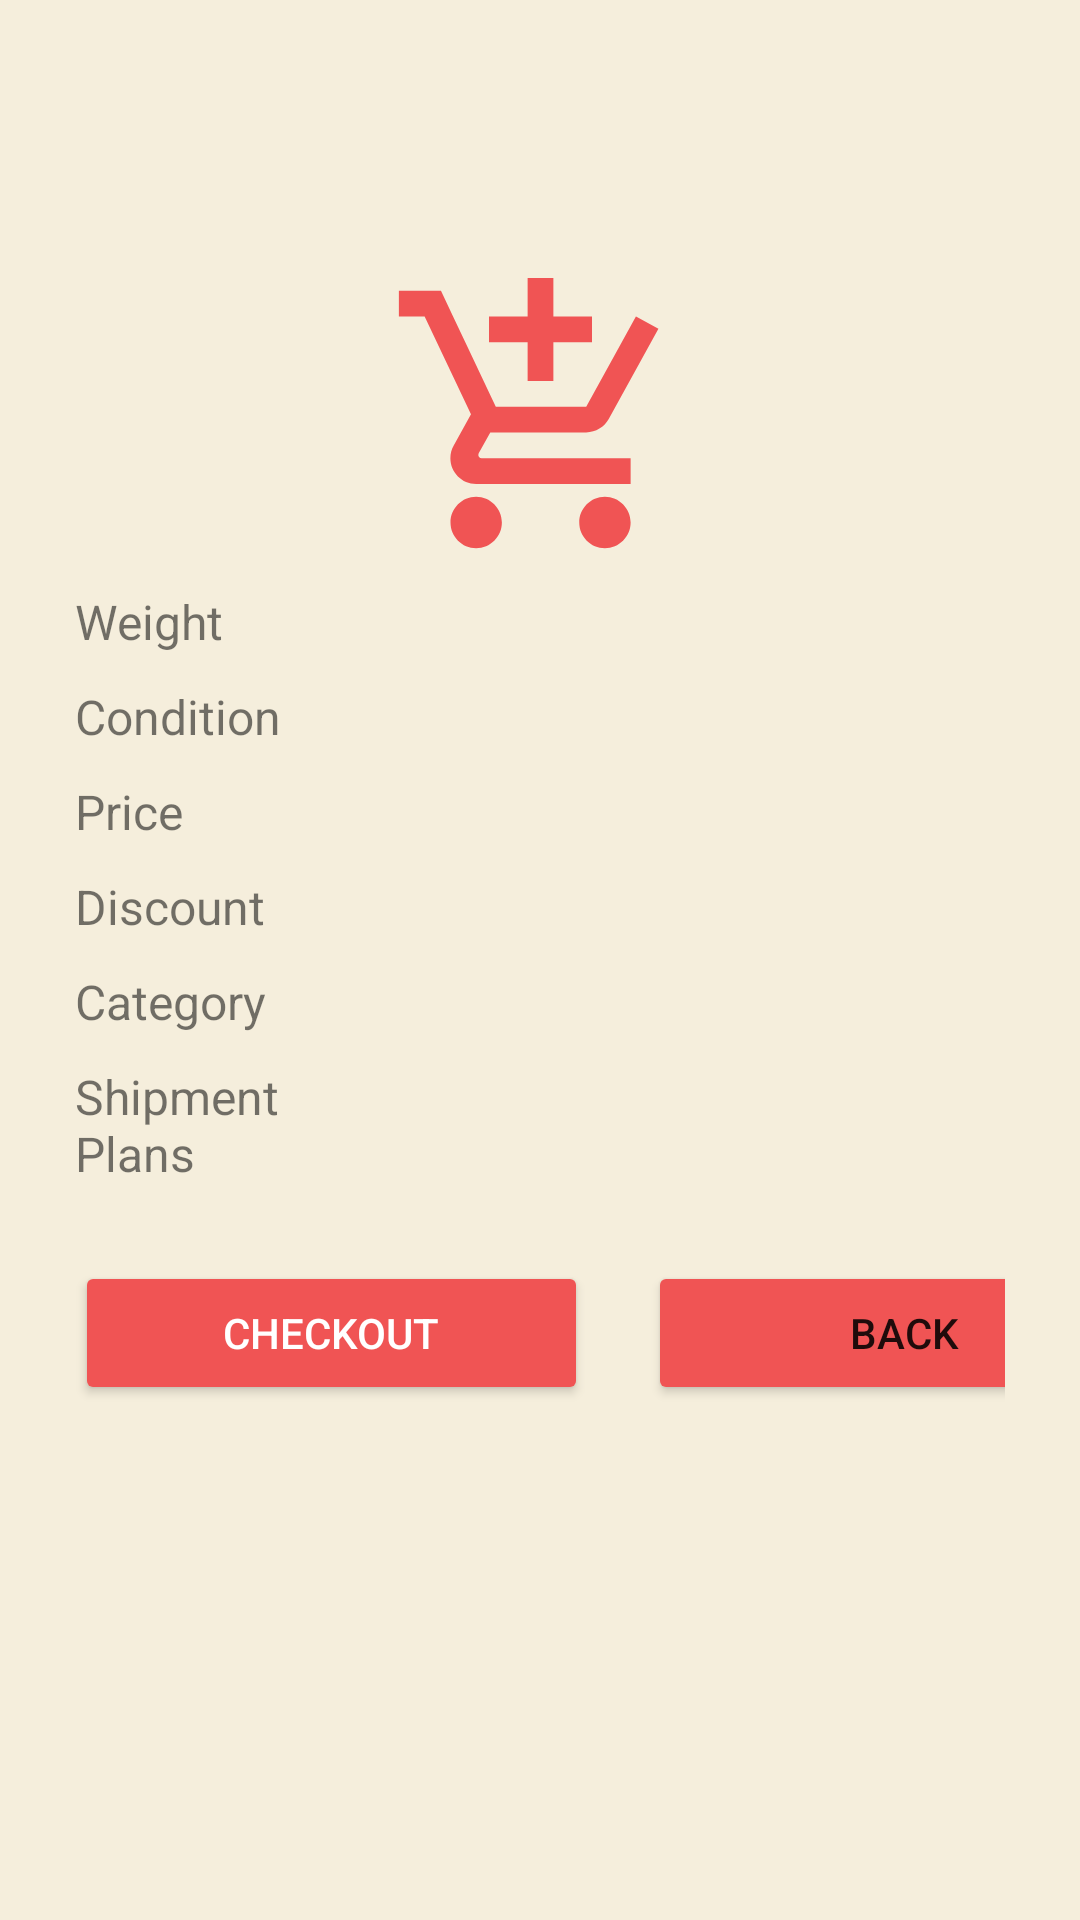

Point at icon controls on the screen. Image size 1080 × 1920, points as (x=x, y=y).
add shopping cart: (x=528, y=413)
